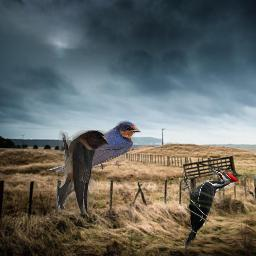Swallow: (47, 120, 141, 173), (56, 130, 108, 215)
Woodpecker: (182, 168, 239, 249)
